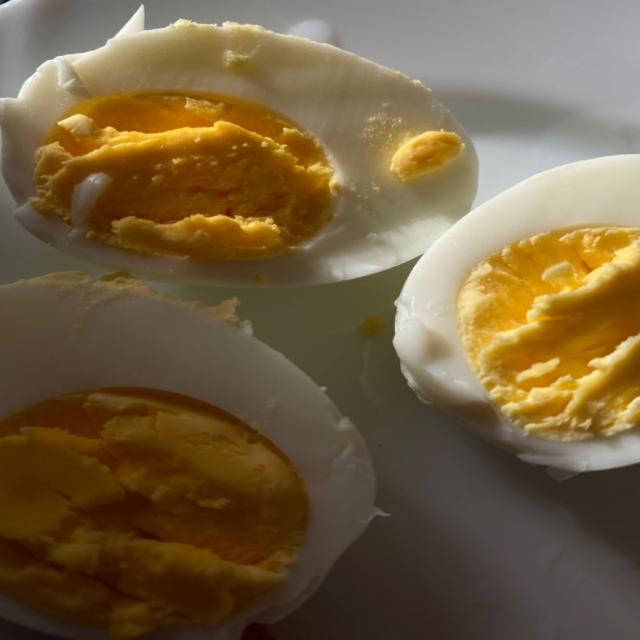egg boiled: (0, 274, 374, 639), (1, 15, 476, 284), (394, 156, 639, 471)
